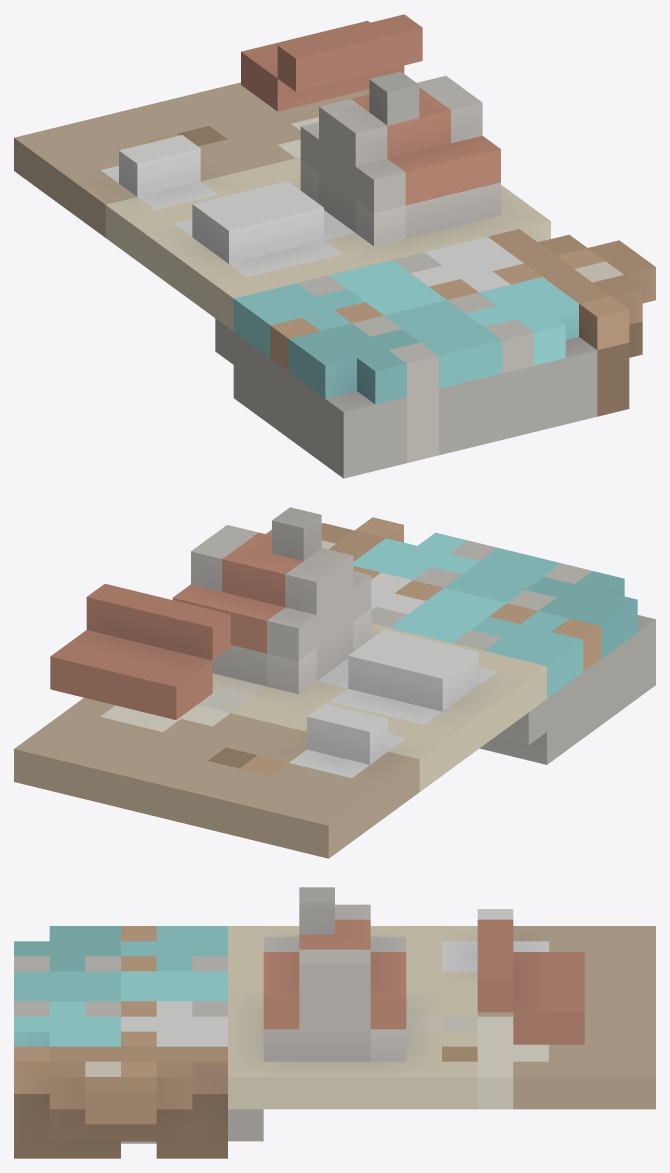
The model's file is salt_pans.lite.glb.
3 views of the same model, one above another, from view 1: azimuth 30°, elevation 25°; view 2: azimuth 150°, elevation 25°; view 3: azimuth 270°, elevation 25° (orthographic). The views are drawn at different scales.
Parts seen in each view (by area): view 1: salt_pans; view 2: salt_pans; view 3: salt_pans.
Part boxes in pixels (bbox=[...]): salt_pans: bbox=[14, 14, 655, 478]; salt_pans: bbox=[14, 507, 655, 858]; salt_pans: bbox=[14, 887, 655, 1158].
Bounding box in the file's own units: 5.5 × 3.5 × 9.
